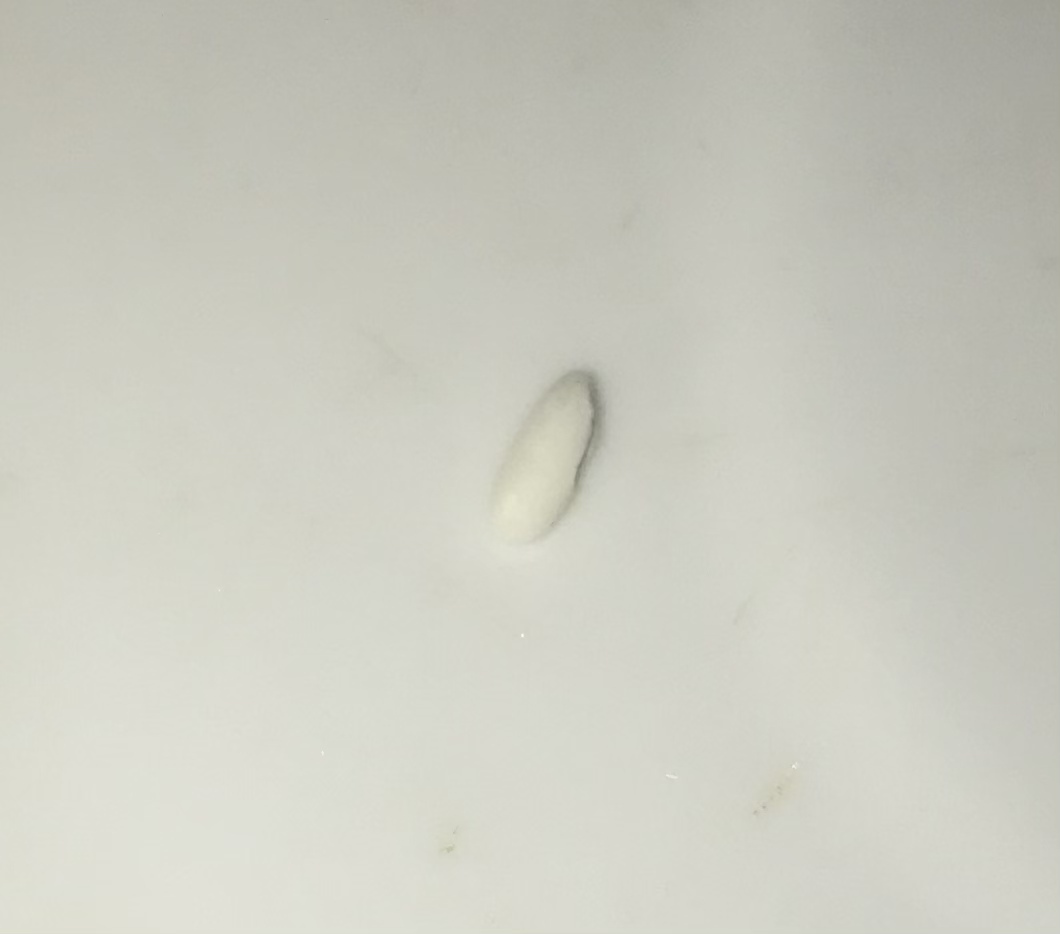Gao Nep Sap: (471, 349, 643, 564)
